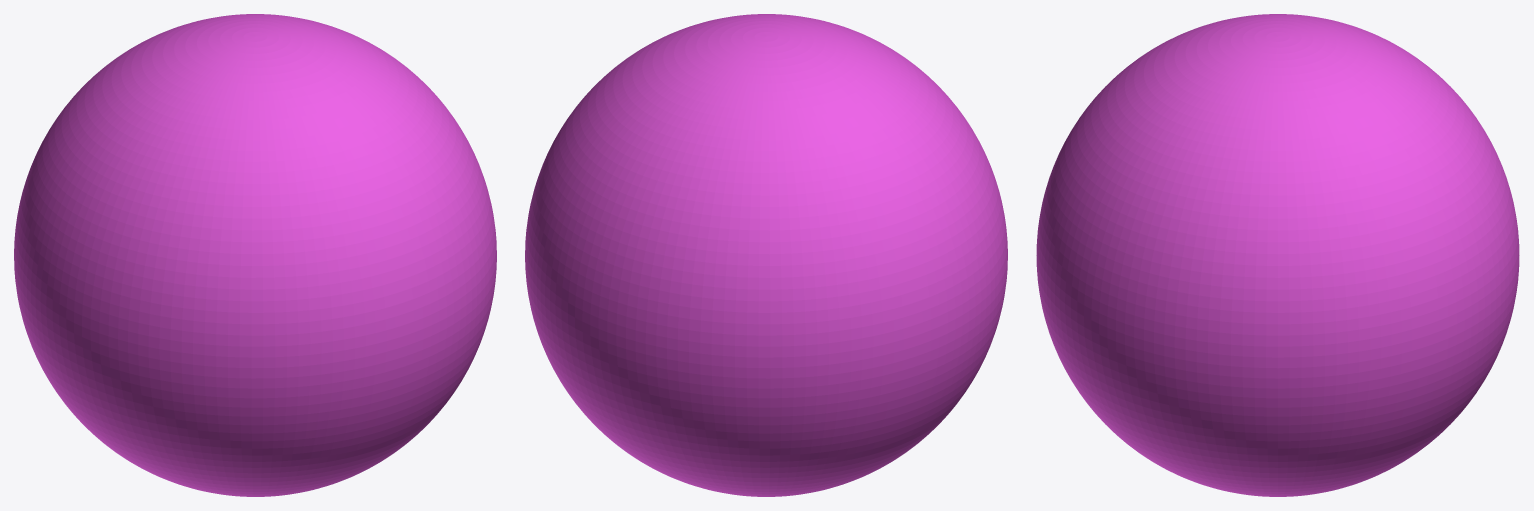
Rendered from dypso.fbx.
The picture shows the model from 3 angles, left to right: view 1: azimuth 30°, elevation 25°; view 2: azimuth 150°, elevation 25°; view 3: azimuth 270°, elevation 25°; orthographic projection.
Visible parts, largest first — view 1: Sphere; view 2: Sphere; view 3: Sphere.
Boxes of the visible parts, <box> form: Sphere: <box>14,14,496,496</box>; Sphere: <box>525,14,1007,496</box>; Sphere: <box>1036,14,1519,496</box>.
Bounding box in the file's own units: 2169 × 2169 × 2169.
